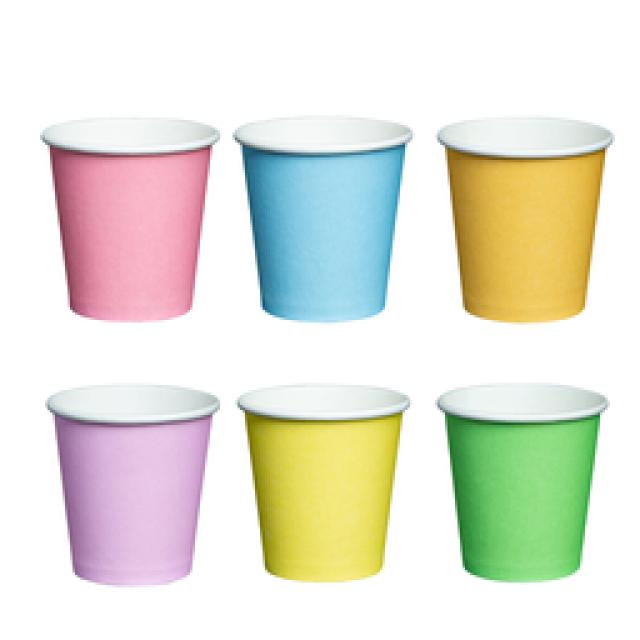paper_cups: (230, 117, 412, 330), (440, 118, 619, 331), (42, 120, 220, 329), (47, 382, 222, 586), (234, 378, 408, 582), (440, 381, 613, 582)
